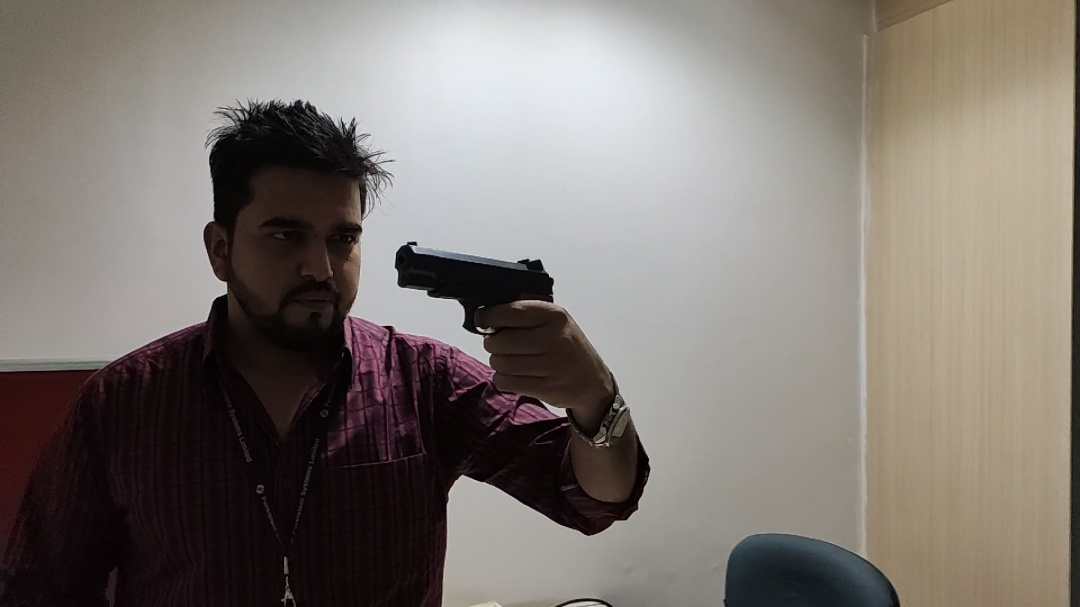gun: (392, 237, 564, 405)
